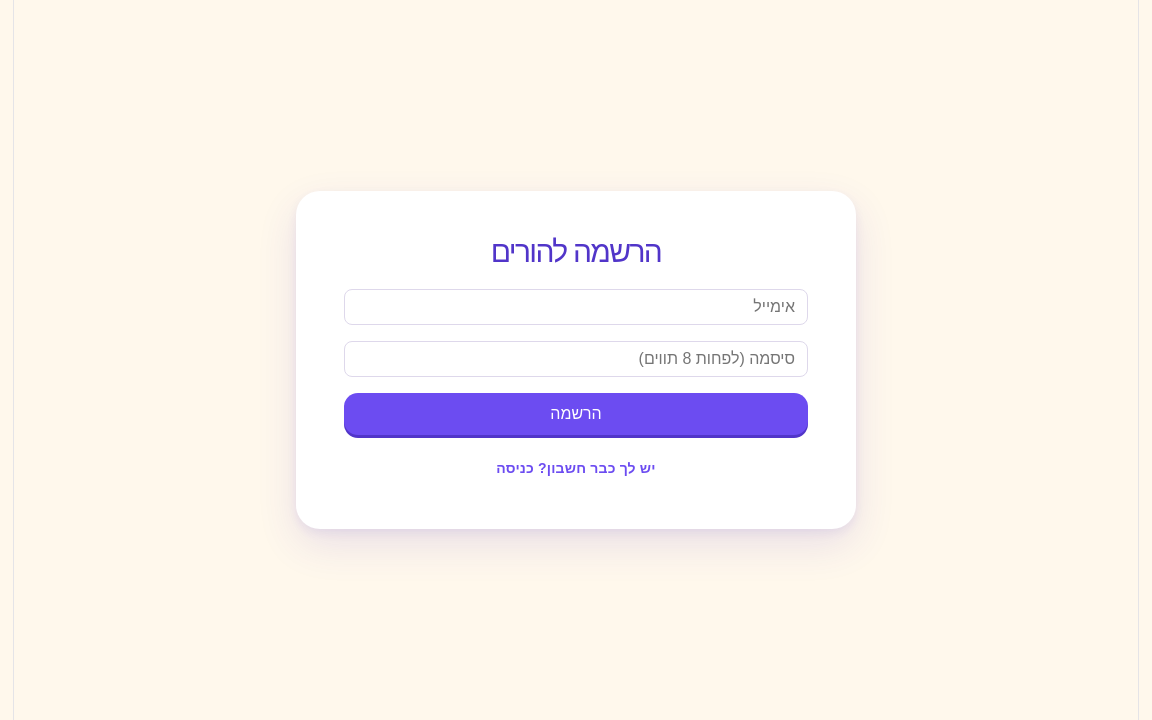
Test: RegisterPage › shows the email-taken message for a 409 response
Type "parent@example.com" into the field labelled "אימייל" at (576, 307), box left=344, top=289, right=808, bottom=325
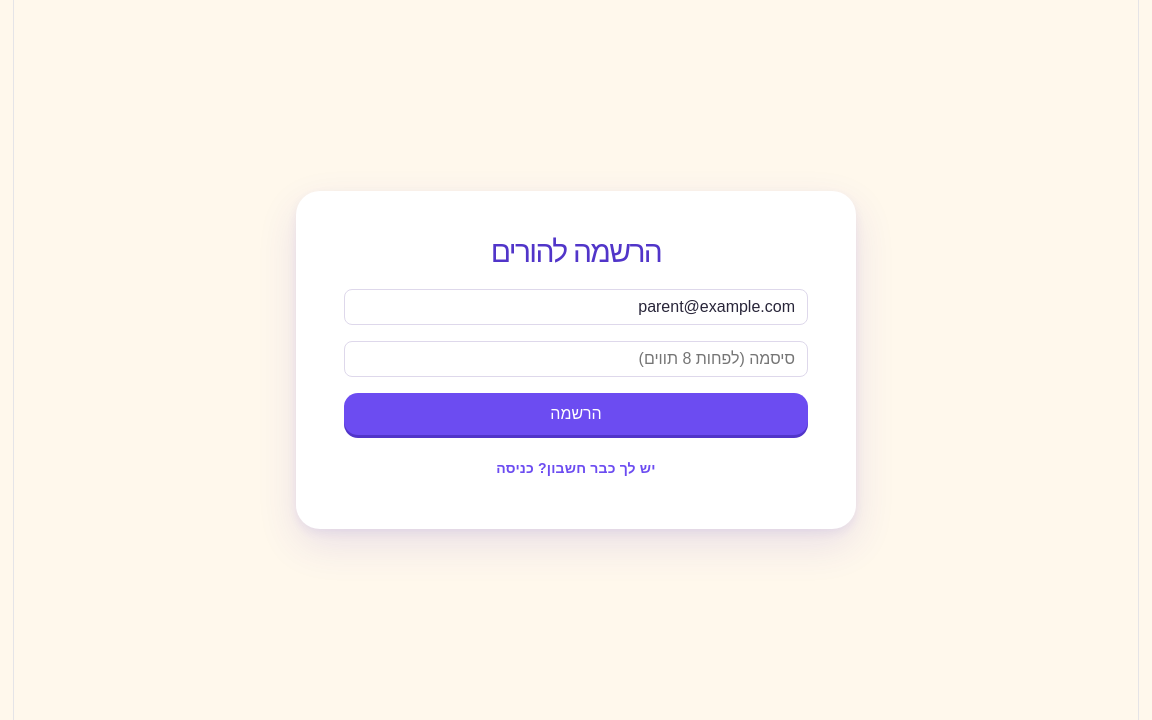
Type "correct-horse" into the password field labelled "סיסמה" at (576, 359), box left=344, top=341, right=808, bottom=377
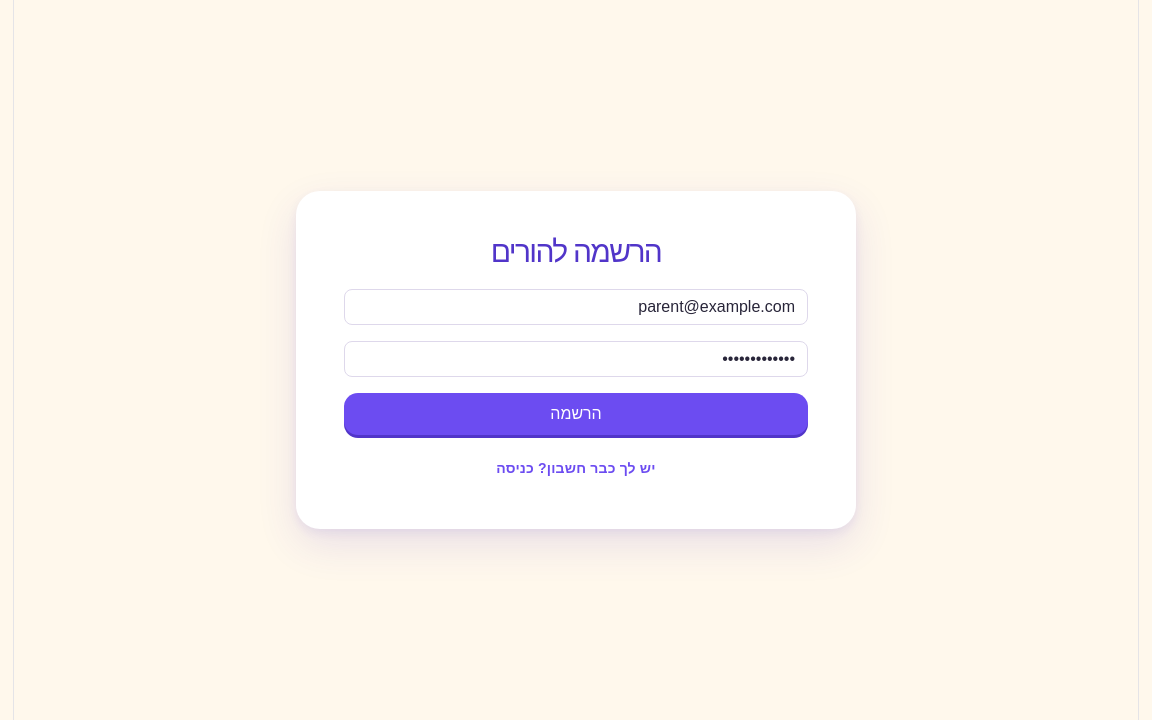
Click the button "הרשמה" at (576, 414), box left=344, top=393, right=808, bottom=435
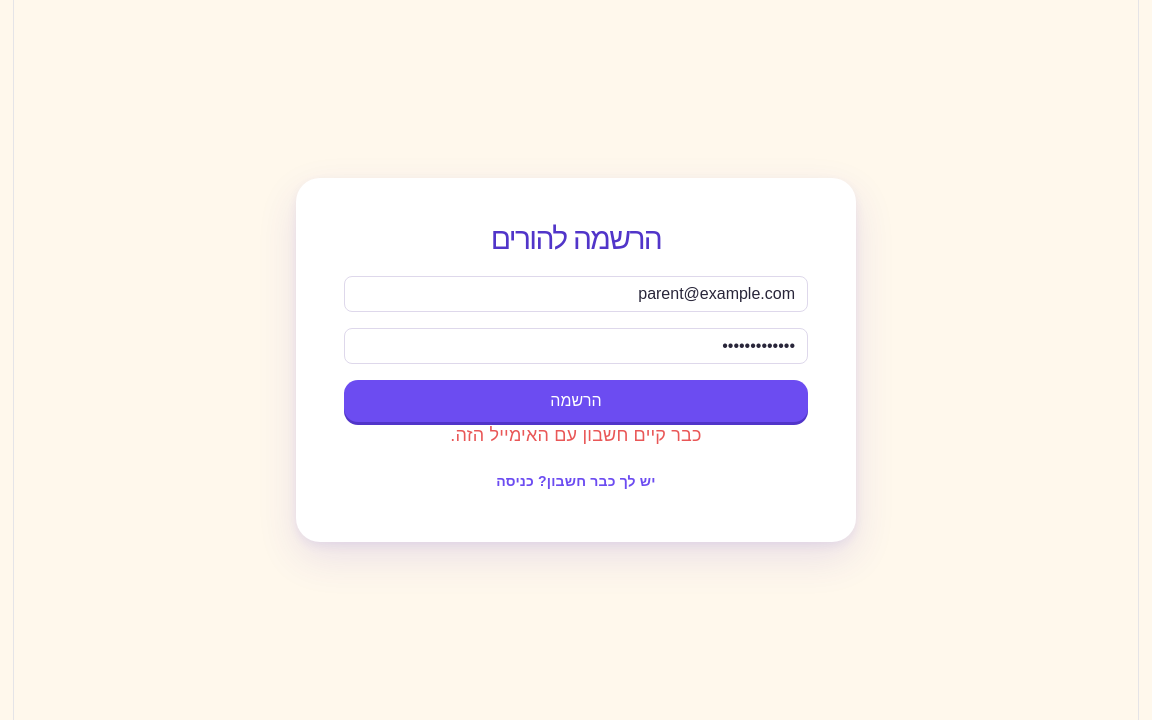
Expected: the text "כבר קיים חשבון עם האימייל הזה." is shown, left=450, top=425, right=702, bottom=445
